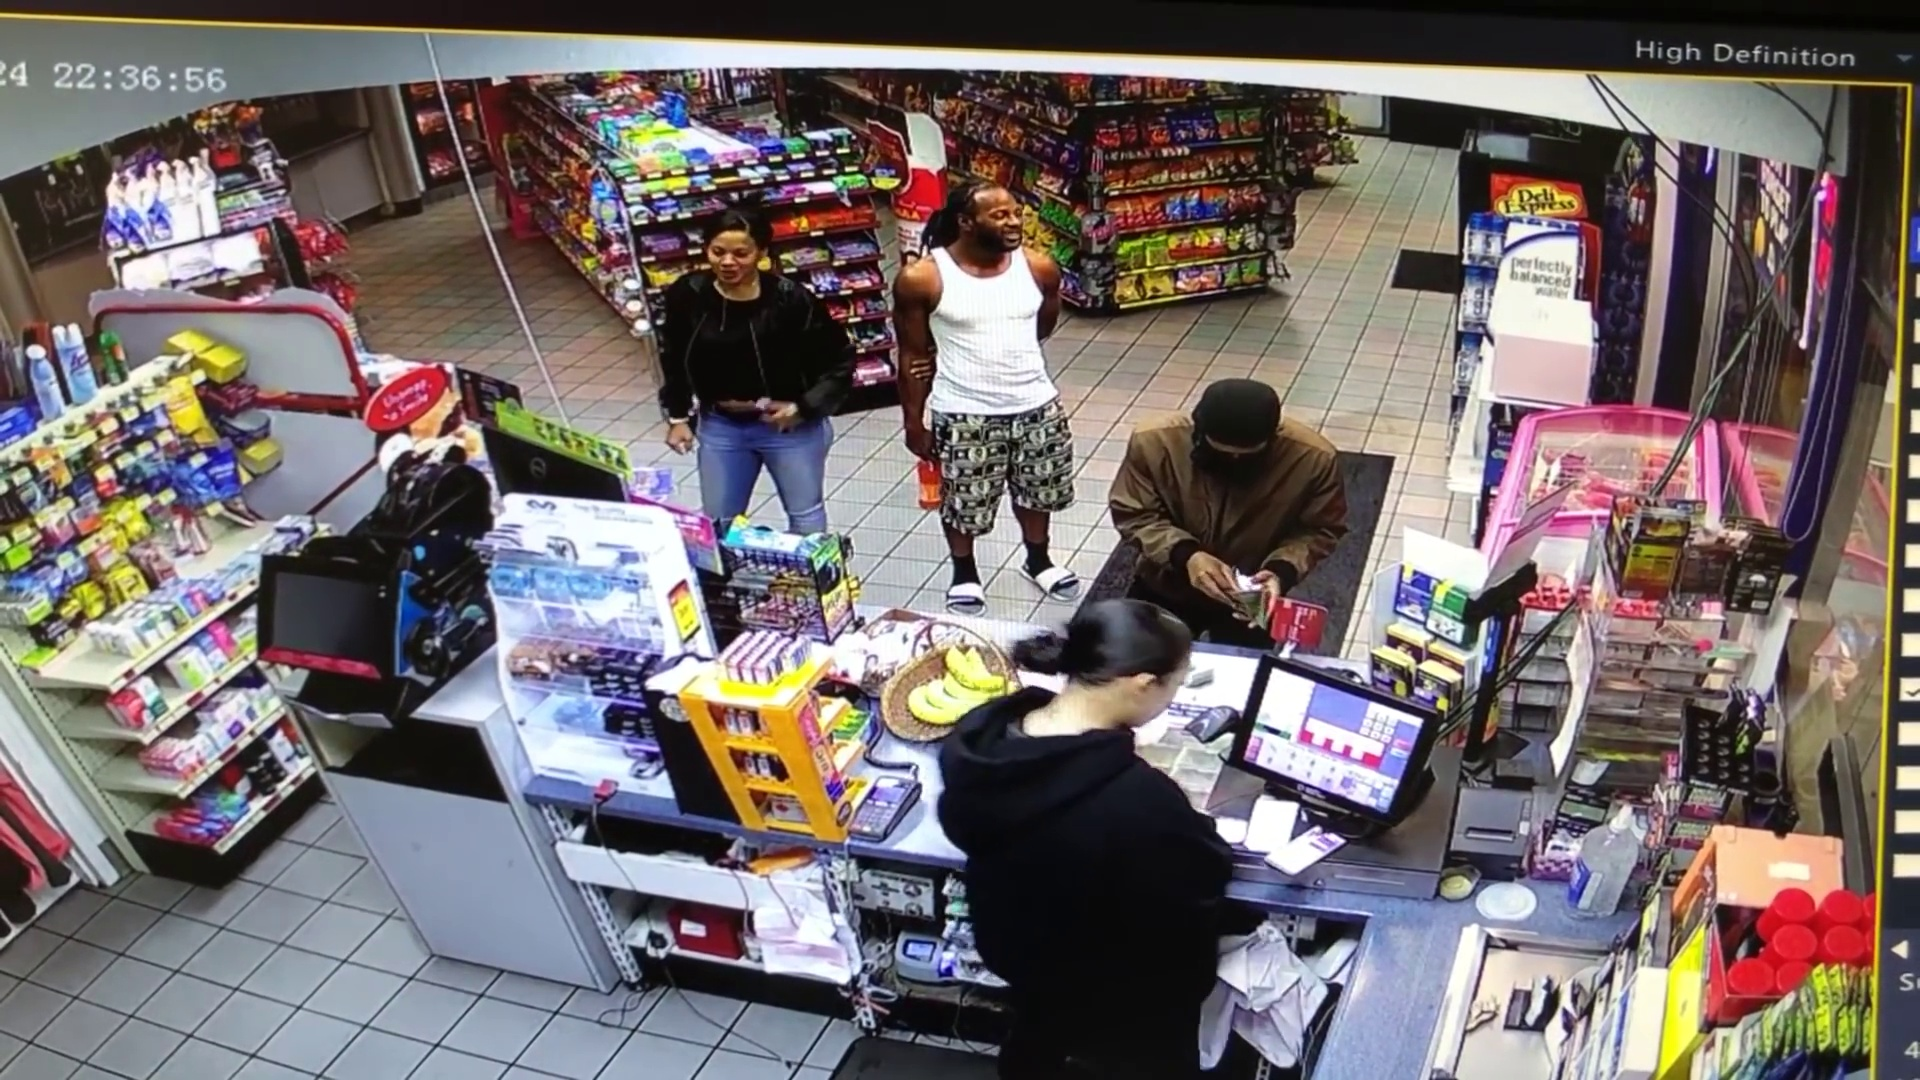face: (976, 182, 1023, 251), (711, 233, 758, 286)
